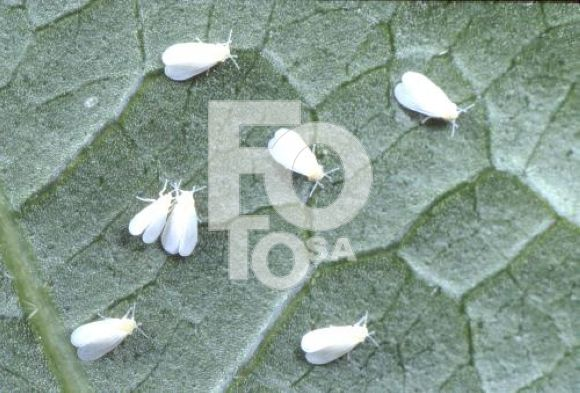whitefly: (394, 71, 473, 137), (70, 304, 146, 360), (301, 312, 378, 365), (161, 30, 239, 80), (160, 184, 206, 256), (129, 181, 180, 244)
